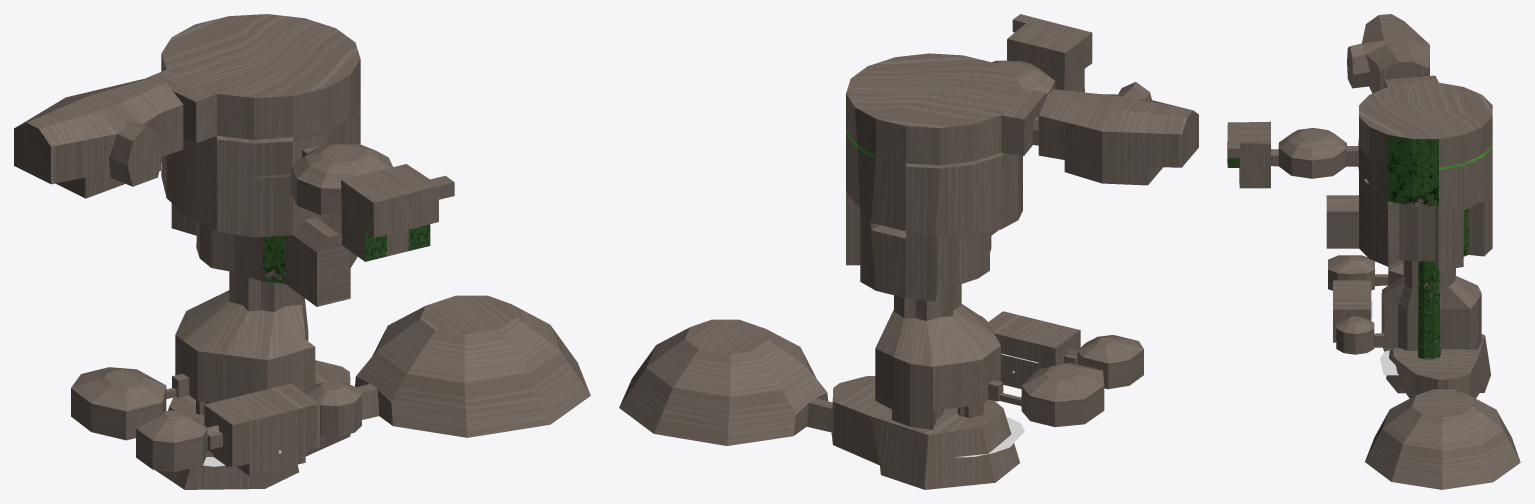
File: Inside_the_deku_tree_TEX_V3.fbx
3 views of the same model, side by side, from view 1: azimuth 30°, elevation 25°; view 2: azimuth 150°, elevation 25°; view 3: azimuth 270°, elevation 25° (orthographic). The views are drawn at different scales.
Parts seen in each view (by area): view 1: Chão, Escalável; view 2: Chão; view 3: Chão, Escalável.
Part boxes in pixels (x1,y1,x2,y2): Chão: (14,14,590,489); Escalável: (263,224,430,283); Chão: (619,14,1198,489); Chão: (1227,14,1520,489); Escalável: (1227,135,1468,359).
Bounding box in the file's own units: 56352 × 38307 × 35521.
